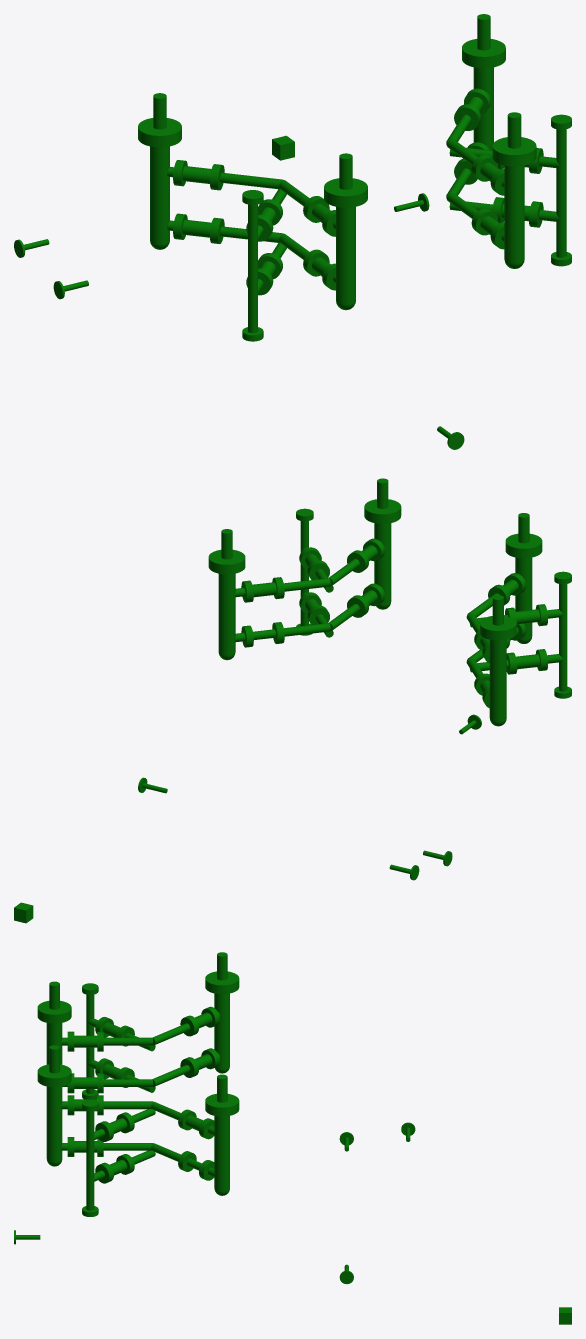
Rendered from Image-1710907768209-2281130118720_62-XX50.fbx.
3 views of the same model, one above another, from view 1: azimuth 30°, elevation 25°; view 2: azimuth 150°, elevation 25°; view 3: azimuth 270°, elevation 25° (orthographic). The views are drawn at different scales.
Visible parts, largest first — view 1: CYLINDER 37 of SUBEQUIPMENT /62-XX50-PRIM.PIPE, CYLINDER 41 of SUBEQUIPMENT /62-XX50-PRIM.PIPE, CYLINDER 42 of SUBEQUIPMENT /62-XX50-PRIM.PIPE, CYLINDER 38 of SUBEQUIPMENT /62-XX50-PRIM.PIPE, CYLINDER 39 of SUBEQUIPMENT /62-XX50-PRIM.PIPE, CYLINDER 40 of SUBEQUIPMENT /62-XX50-PRIM.PIPE, CYLINDER 58 of SUBEQUIPMENT /62-XX50-PRIM.PIPE, CYLINDER 63 of SUBEQUIPMENT /62-XX50-PRIM.PIPE, CYLINDER 65 of SUBEQUIPMENT /62-XX50-PRIM.PIPE, CYLINDER 64 of SUBEQUIPMENT /62-XX50-PRIM.PIPE, CYLINDER 9 of SUBEQUIPMENT /62-XX50-PRIM.PIPE; view 2: CYLINDER 40 of SUBEQUIPMENT /62-XX50-PRIM.PIPE, CYLINDER 42 of SUBEQUIPMENT /62-XX50-PRIM.PIPE, CYLINDER 37 of SUBEQUIPMENT /62-XX50-PRIM.PIPE, CYLINDER 39 of SUBEQUIPMENT /62-XX50-PRIM.PIPE, CYLINDER 41 of SUBEQUIPMENT /62-XX50-PRIM.PIPE, CYLINDER 63 of SUBEQUIPMENT /62-XX50-PRIM.PIPE, CYLINDER 64 of SUBEQUIPMENT /62-XX50-PRIM.PIPE, CYLINDER 7 of SUBEQUIPMENT /62-XX50-PRIM.PIPE, CYLINDER 58 of SUBEQUIPMENT /62-XX50-PRIM.PIPE, CYLINDER 65 of SUBEQUIPMENT /62-XX50-PRIM.PIPE; view 3: CYLINDER 37 of SUBEQUIPMENT /62-XX50-PRIM.PIPE, CYLINDER 40 of SUBEQUIPMENT /62-XX50-PRIM.PIPE, CYLINDER 42 of SUBEQUIPMENT /62-XX50-PRIM.PIPE, CYLINDER 38 of SUBEQUIPMENT /62-XX50-PRIM.PIPE, CYLINDER 58 of SUBEQUIPMENT /62-XX50-PRIM.PIPE, CYLINDER 64 of SUBEQUIPMENT /62-XX50-PRIM.PIPE, CYLINDER 65 of SUBEQUIPMENT /62-XX50-PRIM.PIPE, CYLINDER 63 of SUBEQUIPMENT /62-XX50-PRIM.PIPE, CYLINDER 39 of SUBEQUIPMENT /62-XX50-PRIM.PIPE, CYLINDER 41 of SUBEQUIPMENT /62-XX50-PRIM.PIPE, CYLINDER 8 of SUBEQUIPMENT /62-XX50-PRIM.PIPE, CYLINDER 1 of SUBEQUIPMENT /62-XX50-PRIM.PIPE.
Part boxes in pixels (box(x1,y1,x2,y2)): CYLINDER 37 of SUBEQUIPMENT /62-XX50-PRIM.PIPE: box(504, 165, 524, 263); CYLINDER 41 of SUBEQUIPMENT /62-XX50-PRIM.PIPE: box(336, 207, 355, 304); CYLINDER 42 of SUBEQUIPMENT /62-XX50-PRIM.PIPE: box(150, 146, 169, 243); CYLINDER 38 of SUBEQUIPMENT /62-XX50-PRIM.PIPE: box(556, 129, 566, 257); CYLINDER 39 of SUBEQUIPMENT /62-XX50-PRIM.PIPE: box(248, 204, 257, 332); CYLINDER 40 of SUBEQUIPMENT /62-XX50-PRIM.PIPE: box(473, 67, 493, 150); CYLINDER 58 of SUBEQUIPMENT /62-XX50-PRIM.PIPE: box(492, 137, 536, 166); CYLINDER 63 of SUBEQUIPMENT /62-XX50-PRIM.PIPE: box(462, 39, 505, 68); CYLINDER 65 of SUBEQUIPMENT /62-XX50-PRIM.PIPE: box(138, 118, 181, 147); CYLINDER 64 of SUBEQUIPMENT /62-XX50-PRIM.PIPE: box(324, 178, 367, 207); CYLINDER 9 of SUBEQUIPMENT /62-XX50-PRIM.PIPE: box(167, 167, 282, 189); CYLINDER 40 of SUBEQUIPMENT /62-XX50-PRIM.PIPE: box(218, 573, 235, 655); CYLINDER 42 of SUBEQUIPMENT /62-XX50-PRIM.PIPE: box(489, 640, 506, 721); CYLINDER 37 of SUBEQUIPMENT /62-XX50-PRIM.PIPE: box(374, 523, 391, 604); CYLINDER 39 of SUBEQUIPMENT /62-XX50-PRIM.PIPE: box(559, 584, 567, 691); CYLINDER 41 of SUBEQUIPMENT /62-XX50-PRIM.PIPE: box(515, 557, 532, 639); CYLINDER 63 of SUBEQUIPMENT /62-XX50-PRIM.PIPE: box(208, 549, 245, 574); CYLINDER 64 of SUBEQUIPMENT /62-XX50-PRIM.PIPE: box(505, 533, 542, 558); CYLINDER 7 of SUBEQUIPMENT /62-XX50-PRIM.PIPE: box(235, 623, 330, 641); CYLINDER 58 of SUBEQUIPMENT /62-XX50-PRIM.PIPE: box(364, 499, 401, 523); CYLINDER 65 of SUBEQUIPMENT /62-XX50-PRIM.PIPE: box(480, 616, 516, 640); CYLINDER 37 of SUBEQUIPMENT /62-XX50-PRIM.PIPE: box(46, 1086, 62, 1161); CYLINDER 40 of SUBEQUIPMENT /62-XX50-PRIM.PIPE: box(214, 1116, 229, 1191); CYLINDER 42 of SUBEQUIPMENT /62-XX50-PRIM.PIPE: box(214, 993, 229, 1068); CYLINDER 38 of SUBEQUIPMENT /62-XX50-PRIM.PIPE: box(86, 1111, 94, 1210); CYLINDER 58 of SUBEQUIPMENT /62-XX50-PRIM.PIPE: box(37, 1064, 71, 1087); CYLINDER 64 of SUBEQUIPMENT /62-XX50-PRIM.PIPE: box(37, 1000, 71, 1023); CYLINDER 65 of SUBEQUIPMENT /62-XX50-PRIM.PIPE: box(205, 971, 239, 994); CYLINDER 63 of SUBEQUIPMENT /62-XX50-PRIM.PIPE: box(205, 1093, 239, 1116); CYLINDER 39 of SUBEQUIPMENT /62-XX50-PRIM.PIPE: box(86, 994, 94, 1093); CYLINDER 41 of SUBEQUIPMENT /62-XX50-PRIM.PIPE: box(46, 1023, 62, 1064); CYLINDER 8 of SUBEQUIPMENT /62-XX50-PRIM.PIPE: box(61, 1037, 152, 1045); CYLINDER 1 of SUBEQUIPMENT /62-XX50-PRIM.PIPE: box(61, 1101, 152, 1109).
Size of the model in its own units: 2.55 by 4.26 by 2.
